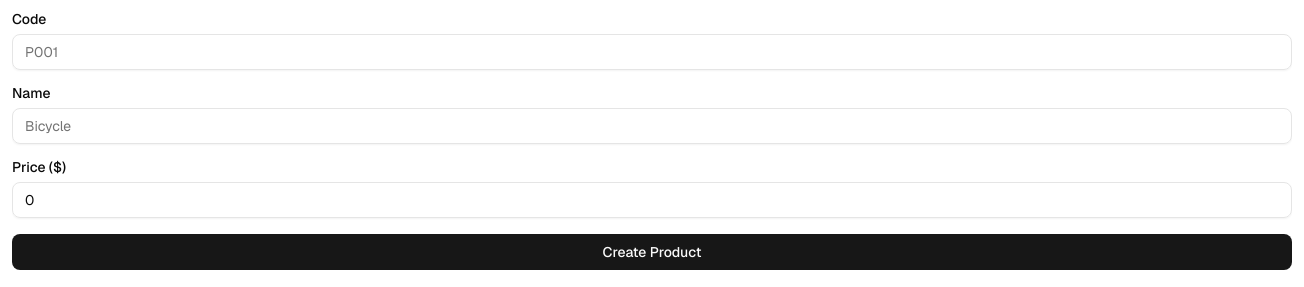
Test case: ProductForm › should show loading spinner when mutation is pending
The image size is (1304, 287).
Type "P1" into the field with placeholder "P001" at coordinates (652, 52), box [12,34,1292,70]
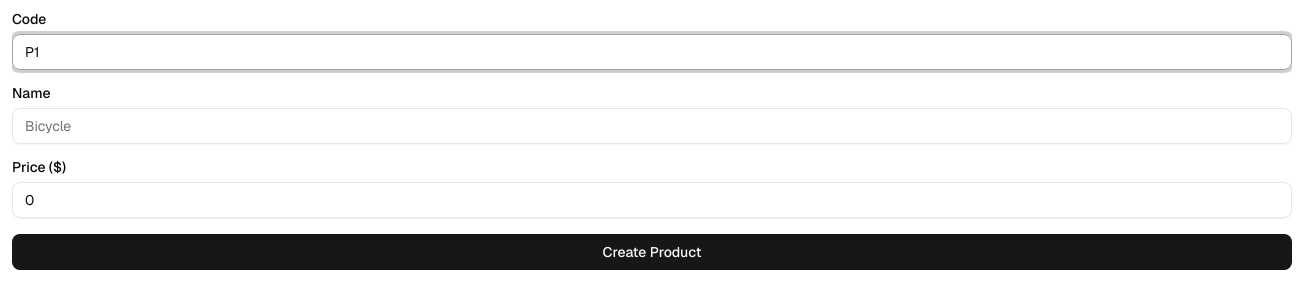
Type "Bike" into the field with placeholder "Bicycle" at coordinates (652, 126), box [12,108,1292,144]
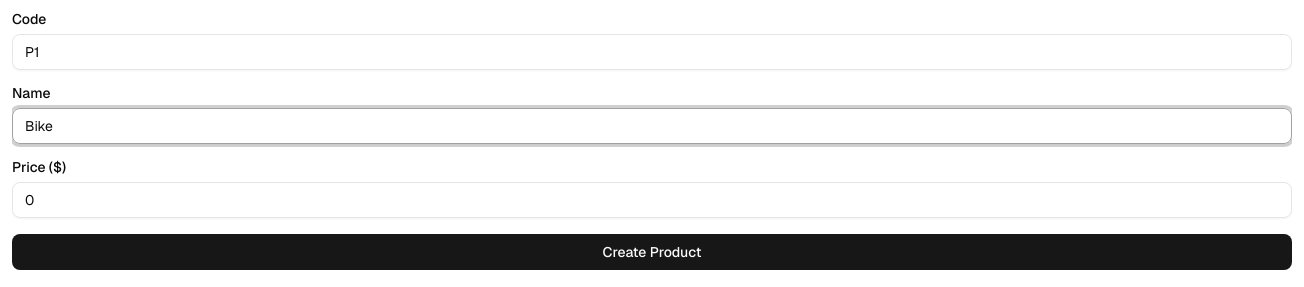
Replace the text in the number field labelled "Price ($)" with "10" at coordinates (652, 200), box [12,182,1292,218]
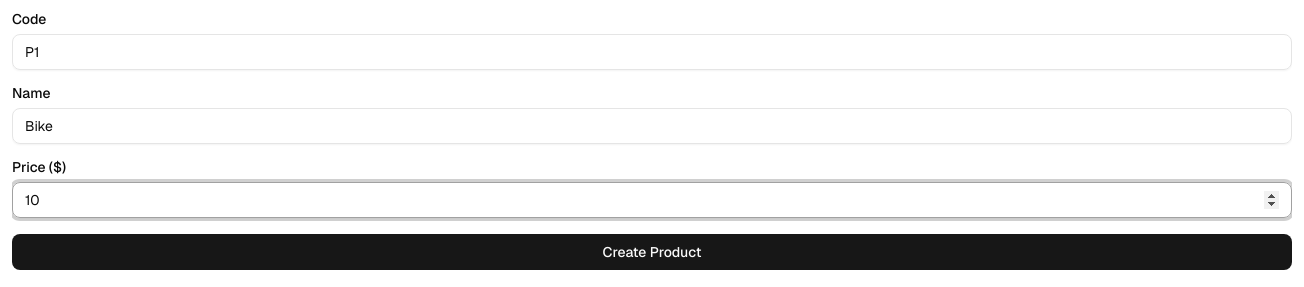
Submit the form
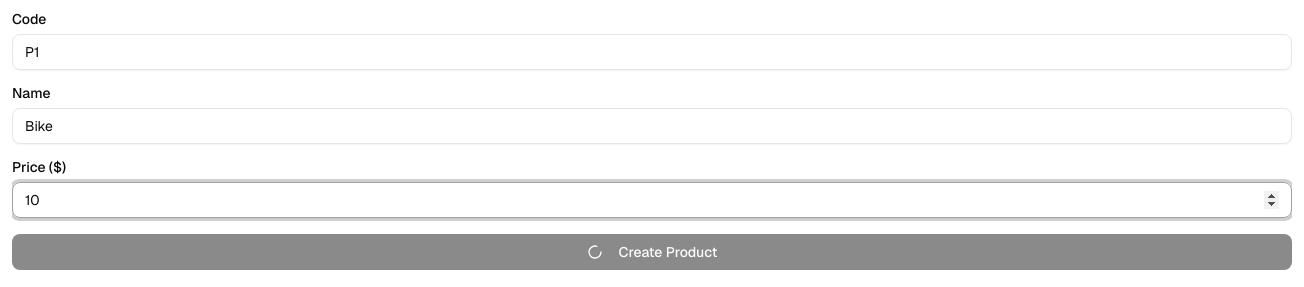
Expected: the icon with class "animate-spin" is shown, [587,244,603,260]
Expected: the button "Create Product" is disabled, [12,234,1292,270]
